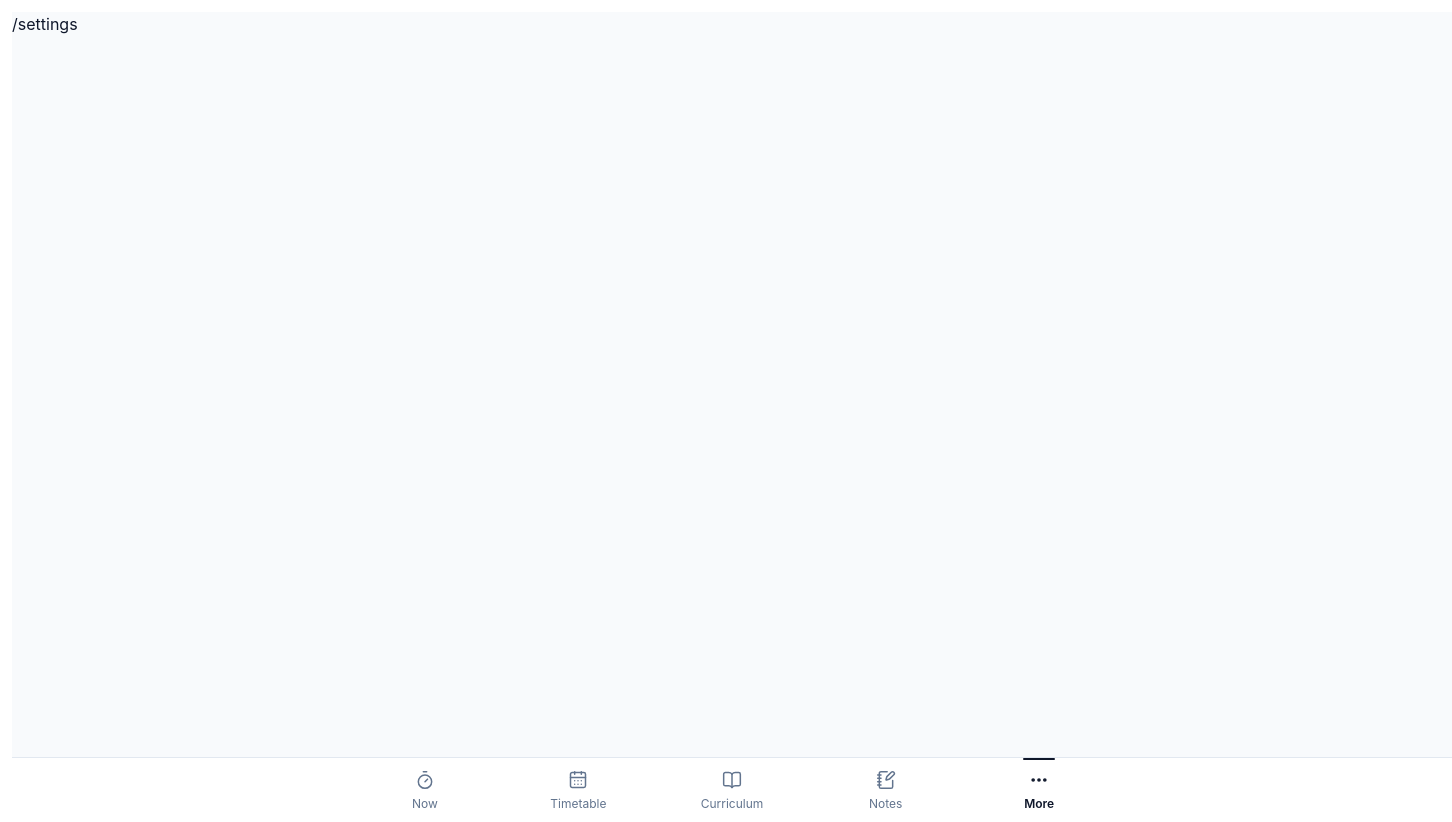
bottom nav "More" menu › closes when clicking outside, and More looks active on a hidden route
This screenshot has width=1452, height=822.
Step 1. Click the button "More" → (1039, 790), box [962,758,1116,821]
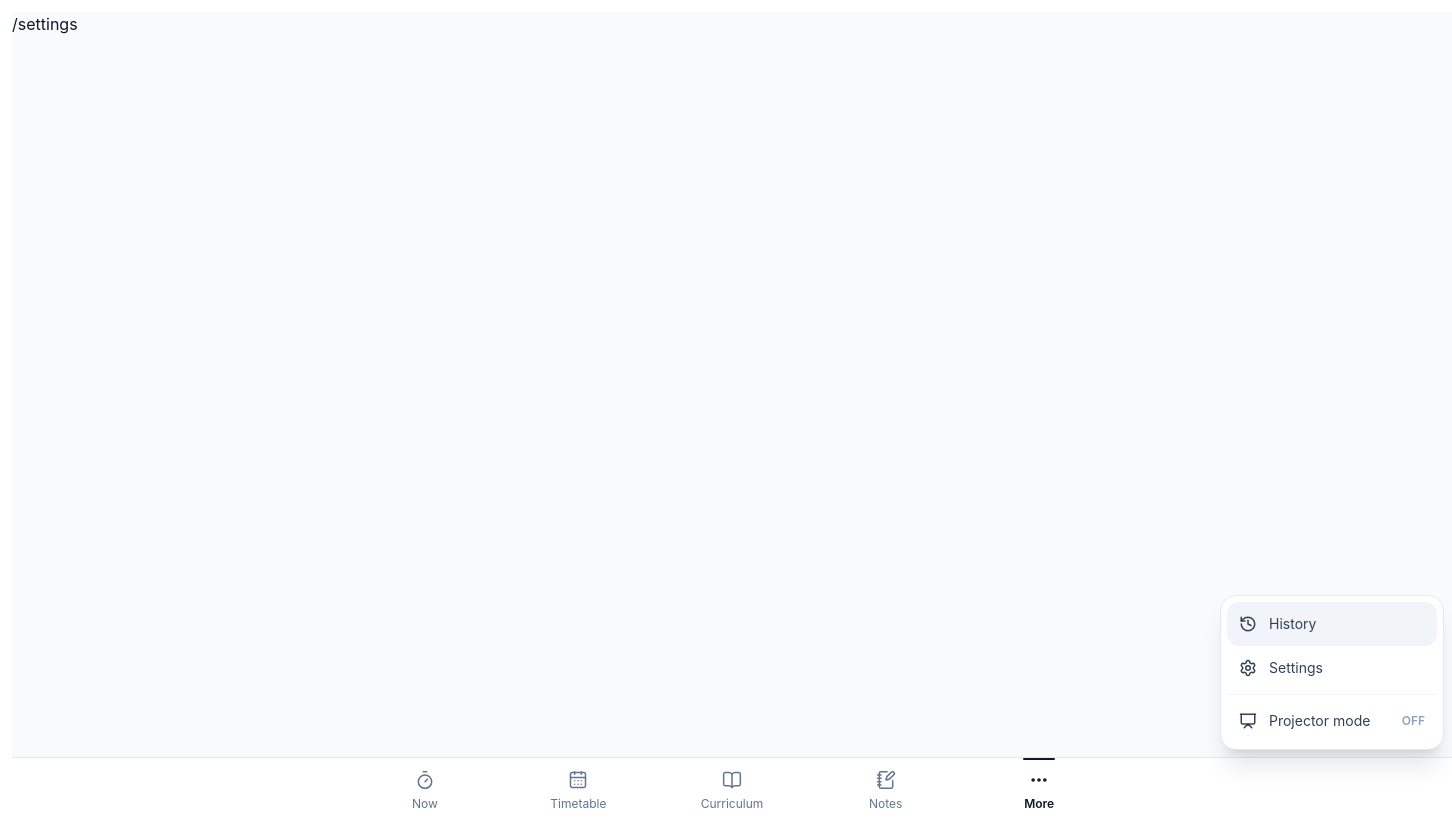
Step 2. Click the element with test id "more-backdrop" → (732, 417), box [12,12,1451,821]
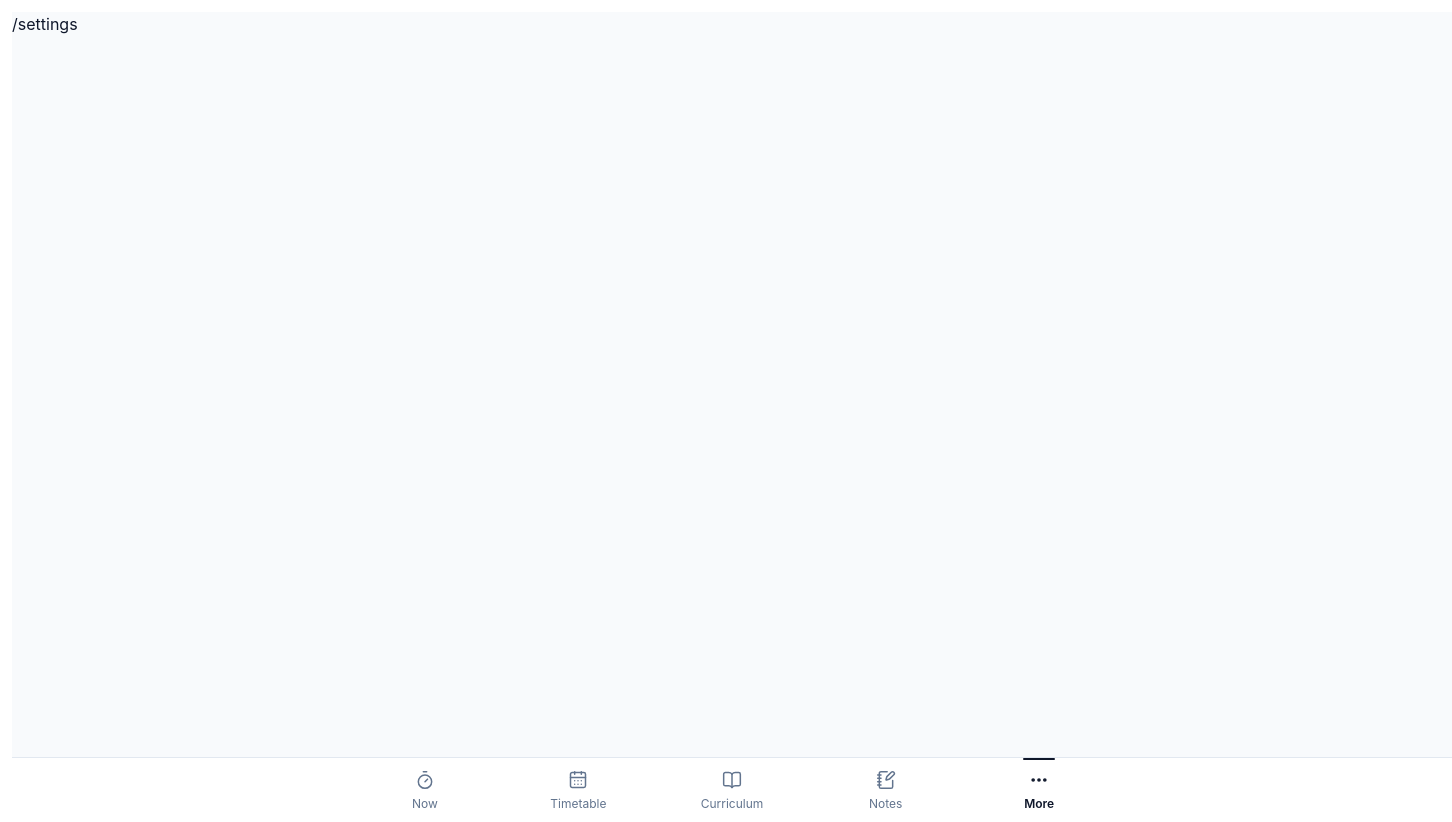
Result: the link "History" is gone
